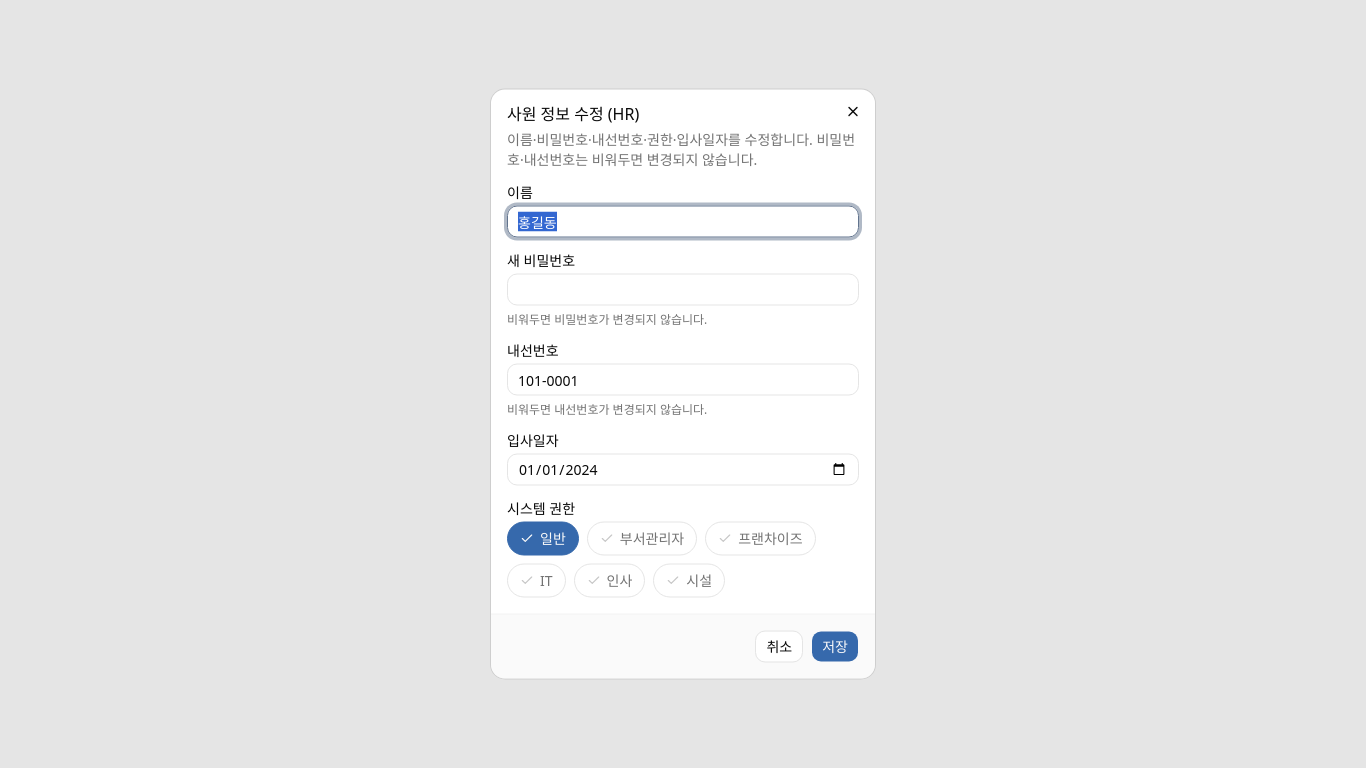
Test: HrManagedInfoDialog - 제출 › 클라 사전검증 실패(형식에 안 맞는 비밀번호)면 네트워크 요청 없이 에러 메시지를 보여준다
Type "ab1!" into the password field labelled "새 비밀번호".
click(683, 290); type("ab1!")  # box [507,274,859,306]
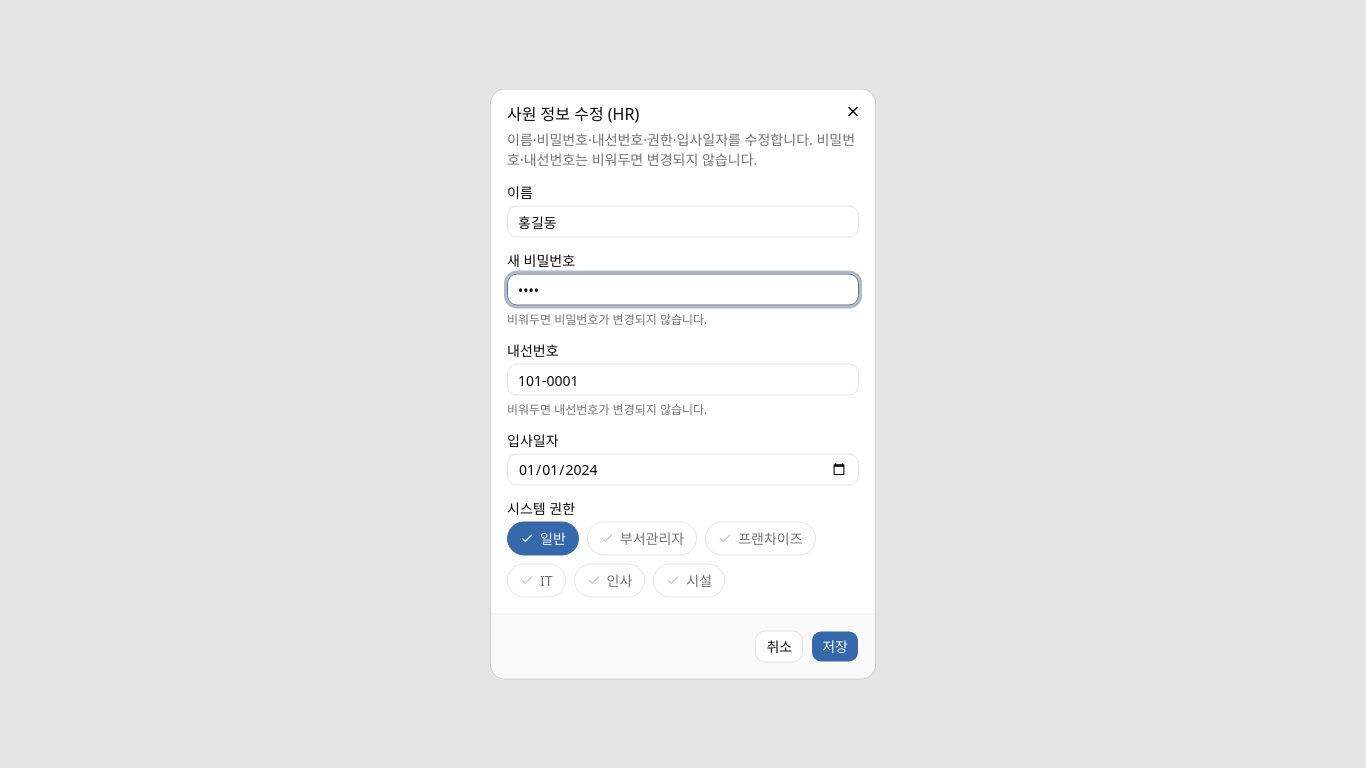
Click the button "저장".
click(835, 646)  # box [811,630,859,662]
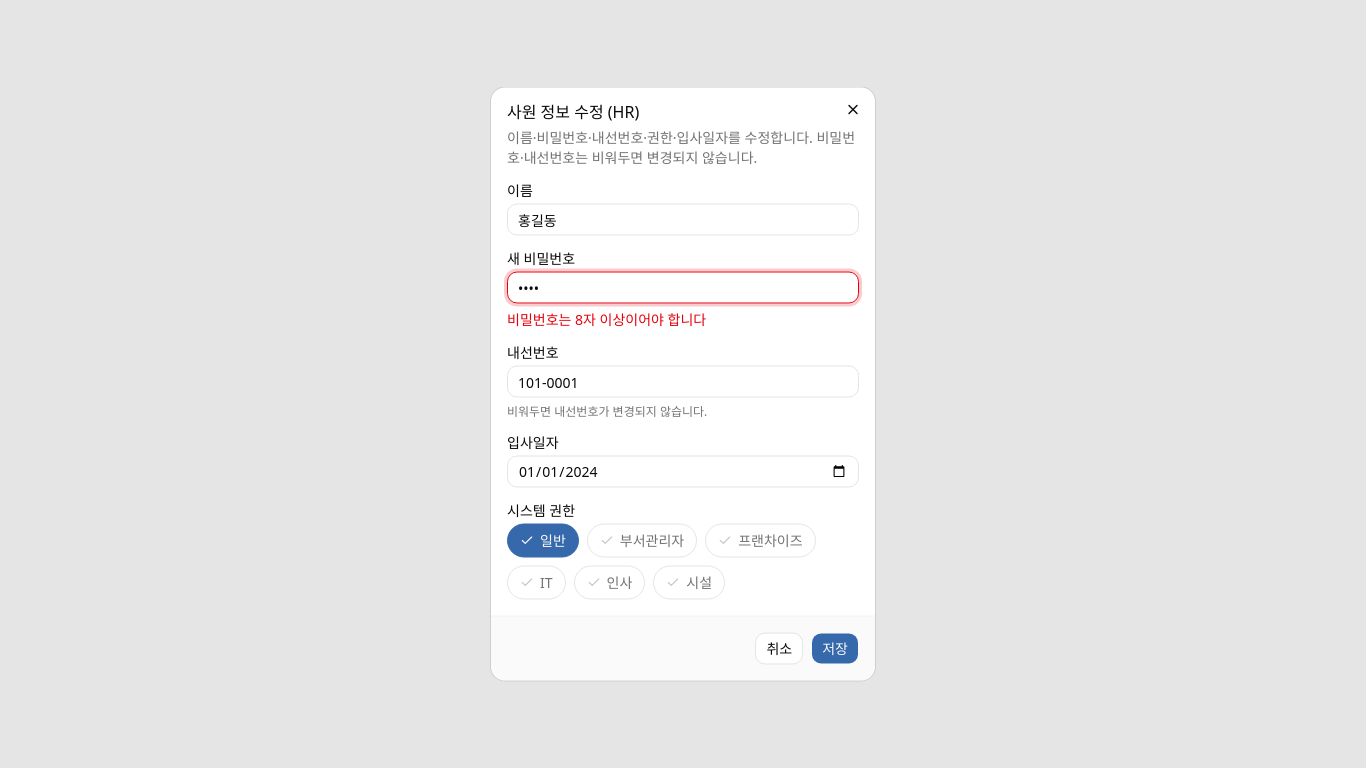
Expected: the text "비밀번호는 8자 이상이어야 합니다" is shown, [507,310,706,328]
